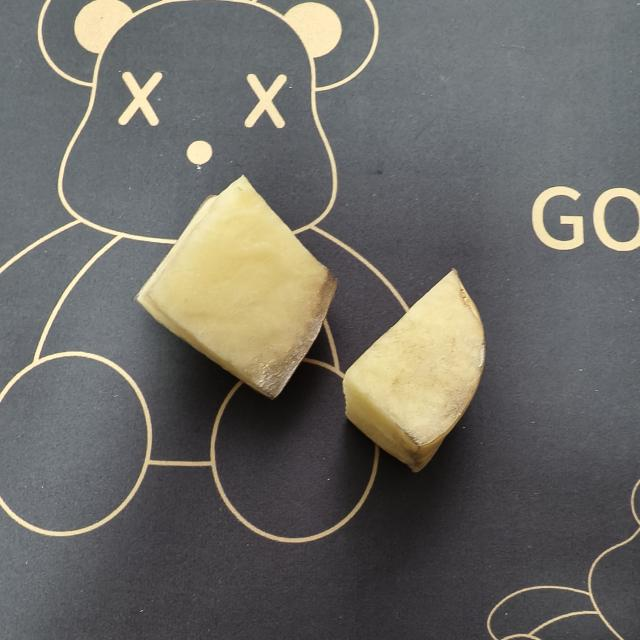-Kitchen waste - potato-: (140, 178, 337, 399), (345, 266, 490, 464)
